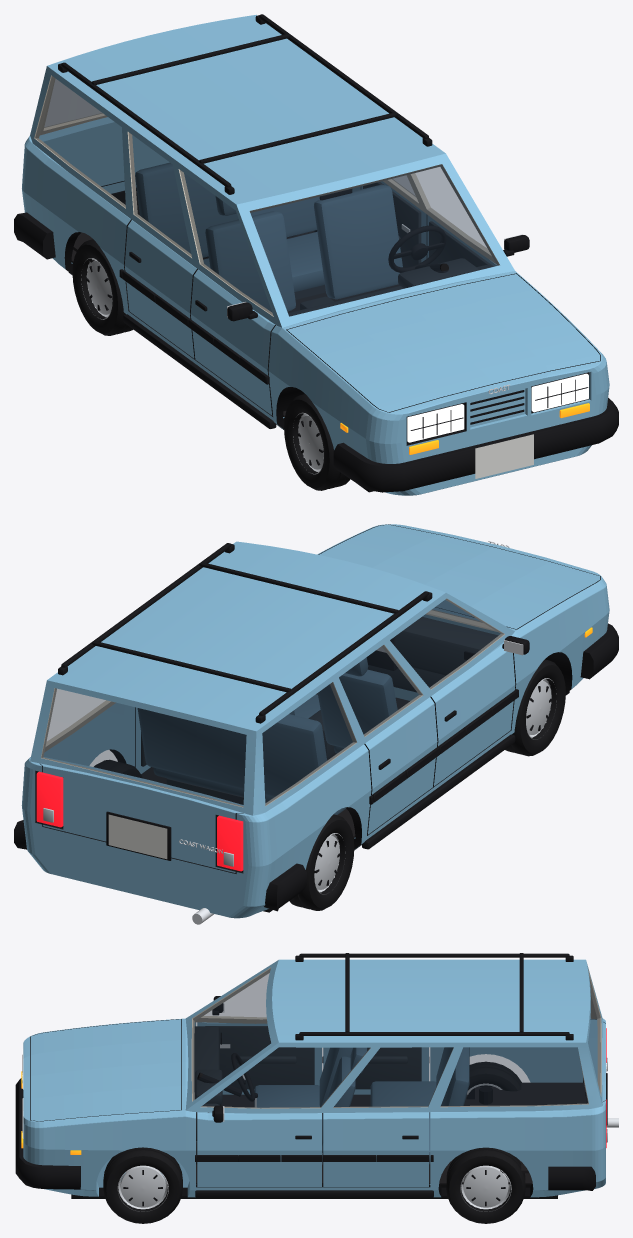
Rendered from coast-wagon.glb.
The picture shows the model from 3 angles, top to bottom: view 1: azimuth 30°, elevation 25°; view 2: azimuth 150°, elevation 25°; view 3: azimuth 270°, elevation 25°; orthographic projection. The views are drawn at different scales.
Visible parts, largest first — view 1: Body, Windows, Hood, Interior, Door_FR, Door_RR, Glass_Door_F_R, Tailgate, Glass_Door_R_R, Lights, Tire_FR, Tire_RR (+8 smaller); view 2: Body, Interior, Glass_Rear, Hood, Tailgate, Door_FR, Windows, Door_RR, Glass_Door_F_R, Glass_Door_R_R, Lights, Tire_RR (+4 smaller); view 3: Body, Windows, Hood, Interior, Door_FL, Door_RL, Glass_Door_F_L, Glass_Door_R_L, DoorCard_FR, Tire_FL, Tire_RL, DoorCard_RR (+10 smaller).
Part boxes in pixels (<box>): Body: <box>14,14,618,495</box>; Windows: <box>35,76,498,316</box>; Hood: <box>287,274,599,412</box>; Interior: <box>71,162,491,417</box>; Door_FR: <box>188,269,275,415</box>; Door_RR: <box>122,220,197,358</box>; Glass_Door_F_R: <box>180,170,272,315</box>; Tailgate: <box>39,78,169,186</box>; Glass_Door_R_R: <box>129,133,191,256</box>; Lights: <box>340,373,589,454</box>; Tire_FR: <box>284,394,350,490</box>; Tire_RR: <box>72,239,133,335</box>; Body: <box>14,524,618,918</box>; Interior: <box>137,617,498,848</box>; Glass_Rear: <box>41,688,246,806</box>; Hood: <box>319,524,599,629</box>; Tailgate: <box>30,680,256,873</box>; Door_FR: <box>430,636,529,786</box>; Windows: <box>262,600,481,805</box>; Door_RR: <box>364,697,439,834</box>; Glass_Door_F_R: <box>390,599,503,688</box>; Glass_Door_R_R: <box>339,645,421,736</box>; Lights: <box>36,627,592,871</box>; Tire_RR: <box>289,814,354,910</box>; Body: <box>15,953,607,1197</box>; Windows: <box>192,968,588,1106</box>; Hood: <box>30,1019,180,1121</box>; Interior: <box>194,1026,585,1184</box>; Door_FL: <box>196,1105,322,1186</box>; Door_RL: <box>322,1112,429,1186</box>; Glass_Door_F_L: <box>201,1047,369,1108</box>; Glass_Door_R_L: <box>333,1047,453,1107</box>; DoorCard_FR: <box>206,1026,314,1089</box>; Tire_FL: <box>103,1147,182,1223</box>; Tire_RL: <box>446,1147,525,1223</box>; DoorCard_RR: <box>355,1047,421,1089</box>.
Bounding box in the file's own units: 2.04 × 1.5 × 4.41.
